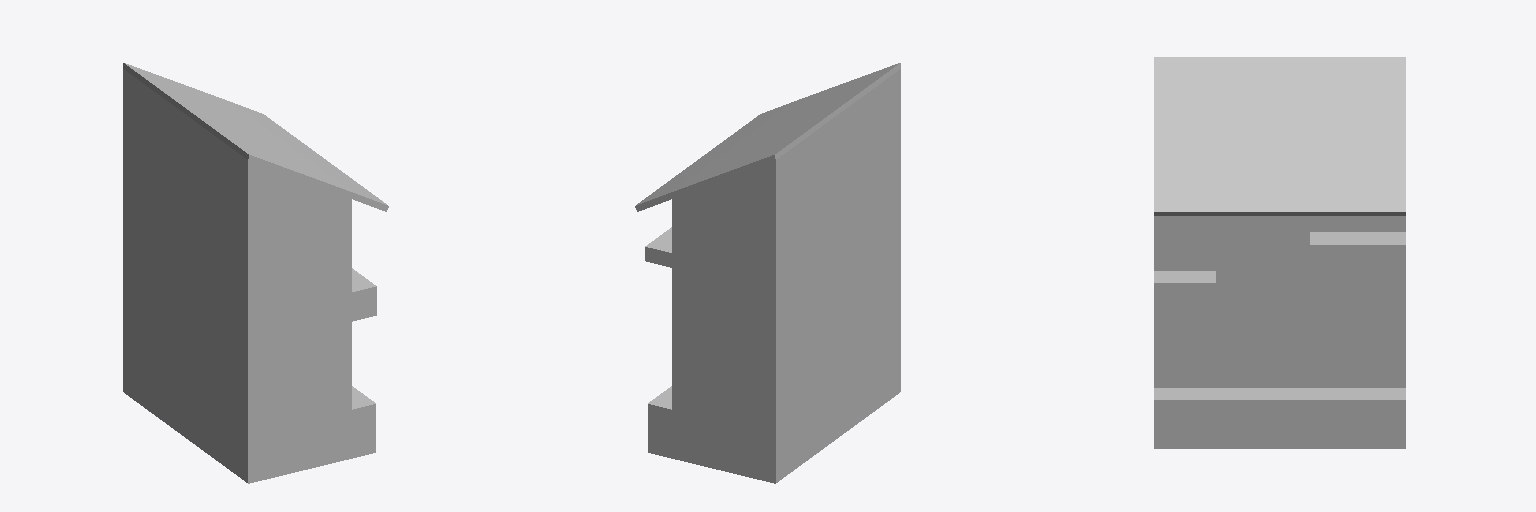
The model's file is house03.obj.
3 views of the same model, side by side, from view 1: azimuth 30°, elevation 25°; view 2: azimuth 150°, elevation 25°; view 3: azimuth 270°, elevation 25° (orthographic).
Visible parts, largest first — view 1: Cube.001; view 2: Cube.001; view 3: Cube.001.
Boxes of the visible parts, <box> form: Cube.001: <box>123,63,388,483</box>; Cube.001: <box>635,63,900,483</box>; Cube.001: <box>1154,57,1405,448</box>.
Size of the model in its own units: 11.68 by 26.09 by 18.06.